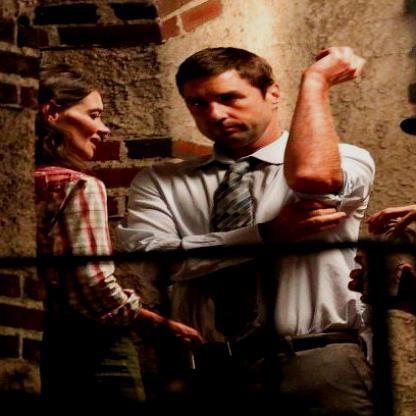person: (133, 46, 368, 414), (36, 66, 148, 408)
